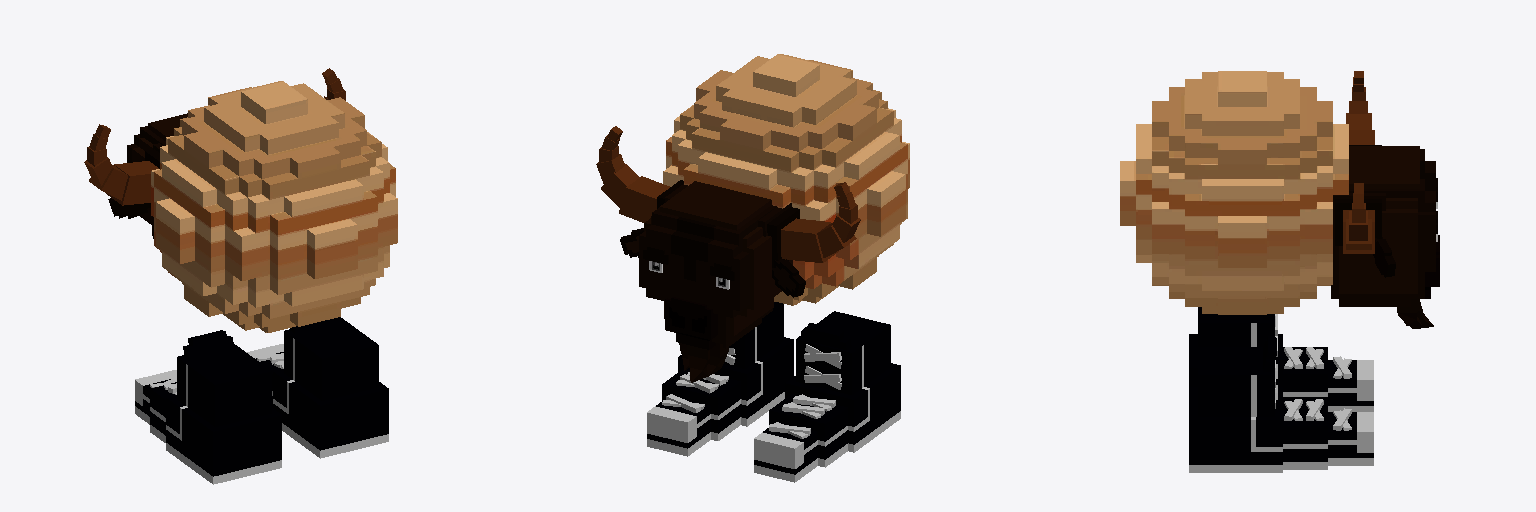
3 views of the same model, side by side, from view 1: azimuth 30°, elevation 25°; view 2: azimuth 150°, elevation 25°; view 3: azimuth 270°, elevation 25° (orthographic).
Parts seen in each view (by area): view 1: Sphere1, Cube0301, Cube0141, Cube0011, Cube0121, Cube0091; view 2: Sphere1, Cube0301, Cube0141, Cube1, Cube0011, Cube0121, Cube0091, Cube0021; view 3: Sphere1, Cube0301, Cube0121, Cube0141, Cube1, Cube0011, Cube0091.
Boxes of the visible parts, x1=… form: Sphere1: x1=151, y1=81, x2=397, y2=332; Cube0301: x1=135, y1=317, x2=388, y2=476; Cube0141: x1=135, y1=338, x2=388, y2=484; Cube0011: x1=84, y1=68, x2=345, y2=205; Cube0121: x1=132, y1=113, x2=187, y2=235; Cube0091: x1=108, y1=149, x2=159, y2=218; Sphere1: x1=649, y1=54, x2=909, y2=305; Cube0301: x1=647, y1=302, x2=900, y2=474; Cube0141: x1=647, y1=327, x2=900, y2=482; Cube1: x1=639, y1=184, x2=791, y2=382; Cube0011: x1=596, y1=126, x2=860, y2=262; Cube0121: x1=625, y1=181, x2=795, y2=335; Cube0091: x1=620, y1=180, x2=805, y2=297; Cube0021: x1=665, y1=297, x2=717, y2=349; Sphere1: x1=1120, y1=71, x2=1437, y2=314; Cube0301: x1=1189, y1=307, x2=1373, y2=464; Cube0121: x1=1339, y1=146, x2=1419, y2=293; Cube0141: x1=1189, y1=314, x2=1373, y2=472; Cube1: x1=1331, y1=149, x2=1435, y2=328; Cube0011: x1=1343, y1=71, x2=1374, y2=253; Cube0091: x1=1335, y1=145, x2=1437, y2=277.
Bounding box in the file's own units: 6.99 × 9.11 × 7.6.
Materials: 9 (1 with a texture image).